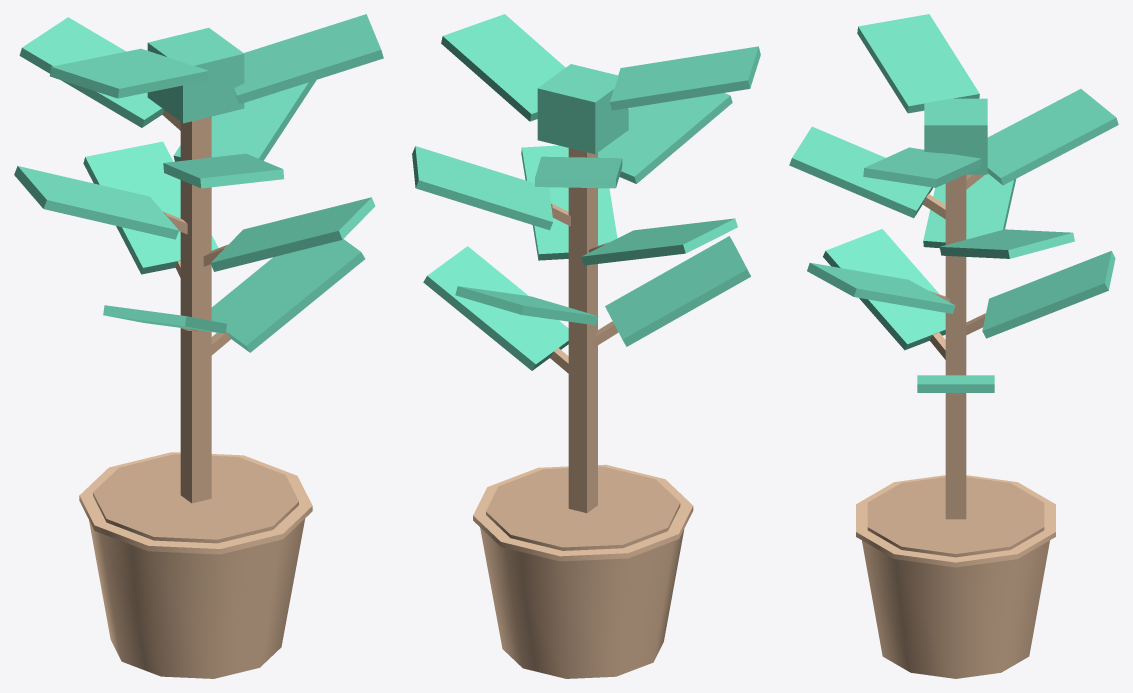
Rendered from plantFiddleFig.glb.
The picture shows the model from 3 angles, left to right: view 1: azimuth 30°, elevation 25°; view 2: azimuth 150°, elevation 25°; view 3: azimuth 270°, elevation 25°; orthographic projection. The views are drawn at different scales.
Visible parts, largest first — view 1: plantFiddleFig; view 2: plantFiddleFig; view 3: plantFiddleFig.
Part boxes in pixels (left/top/right/bottom): plantFiddleFig: left=14, top=14, right=383, bottom=678; plantFiddleFig: left=412, top=14, right=760, bottom=678; plantFiddleFig: left=789, top=14, right=1118, bottom=678.
Size of the model in its own units: 0.3695 by 0.6841 by 0.3633.
